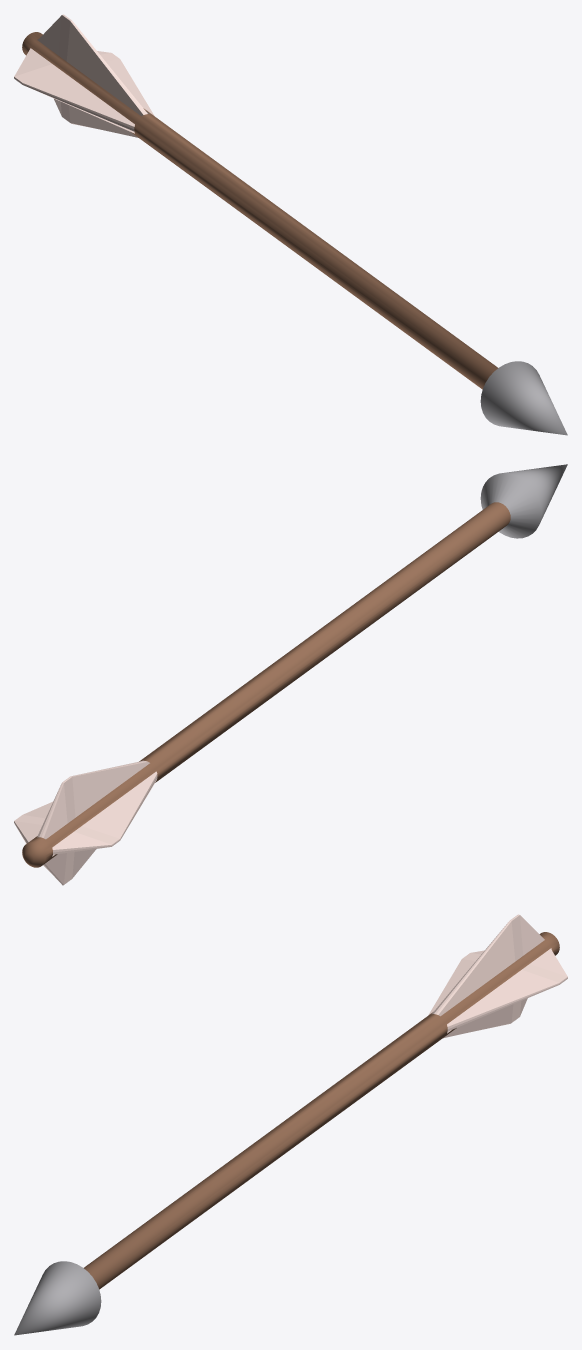
Rendered from Arrow_03.fbx.
The picture shows the model from 3 angles, top to bottom: view 1: azimuth 30°, elevation 25°; view 2: azimuth 150°, elevation 25°; view 3: azimuth 330°, elevation 25°; orthographic projection.
Parts seen in each view (by area): view 1: Cylinder; view 2: Cylinder; view 3: Cylinder.
Part boxes in pixels (bbox=[...]): Cylinder: bbox=[14, 14, 567, 435]; Cylinder: bbox=[14, 464, 567, 885]; Cylinder: bbox=[14, 914, 567, 1335].
Bounding box in the file's own units: 0.4201 × 0.4226 × 4.
